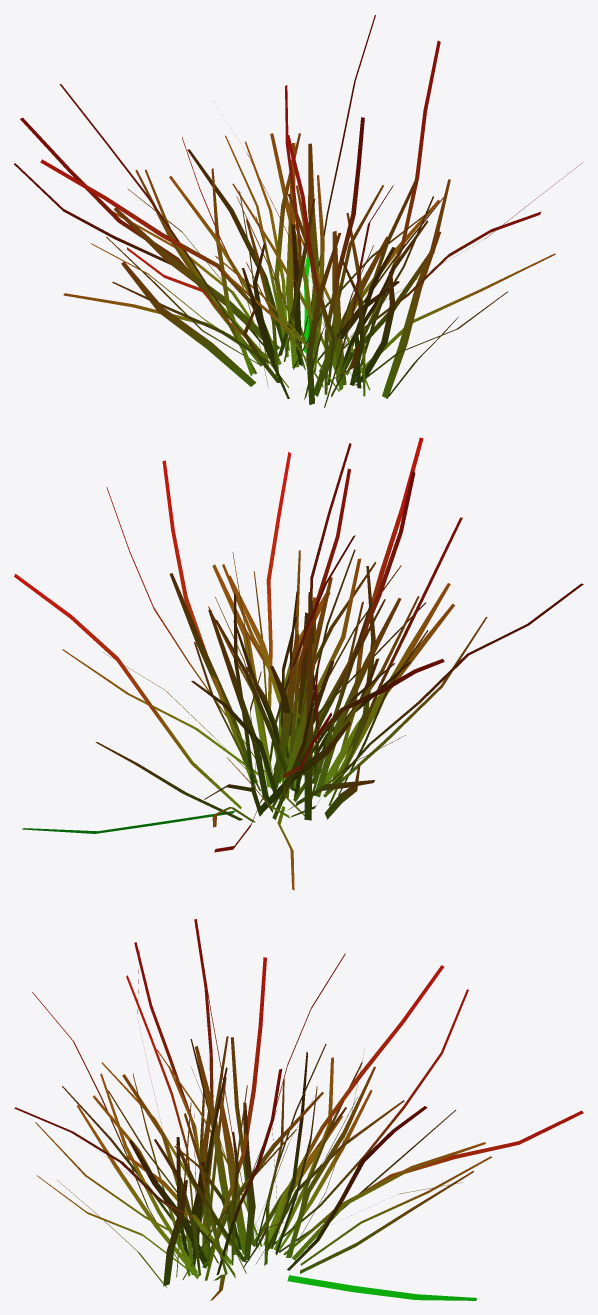
Rendered from Wild Grass_LOD3_Var5_vlkhcbxia.fbx.
The picture shows the model from 3 angles, top to bottom: view 1: azimuth 30°, elevation 25°; view 2: azimuth 150°, elevation 25°; view 3: azimuth 270°, elevation 25°; orthographic projection. The views are drawn at different scales.
Parts seen in each view (by area): view 1: _h9m3_Var5_LOD3; view 2: _h9m3_Var5_LOD3; view 3: _h9m3_Var5_LOD3.
Part boxes in pixels (x1,y1,x2,y2): _h9m3_Var5_LOD3: (14,15,582,407); _h9m3_Var5_LOD3: (14,437,583,890); _h9m3_Var5_LOD3: (14,919,583,1300).
Size of the model in its own units: 35.92 by 23.49 by 39.9.
